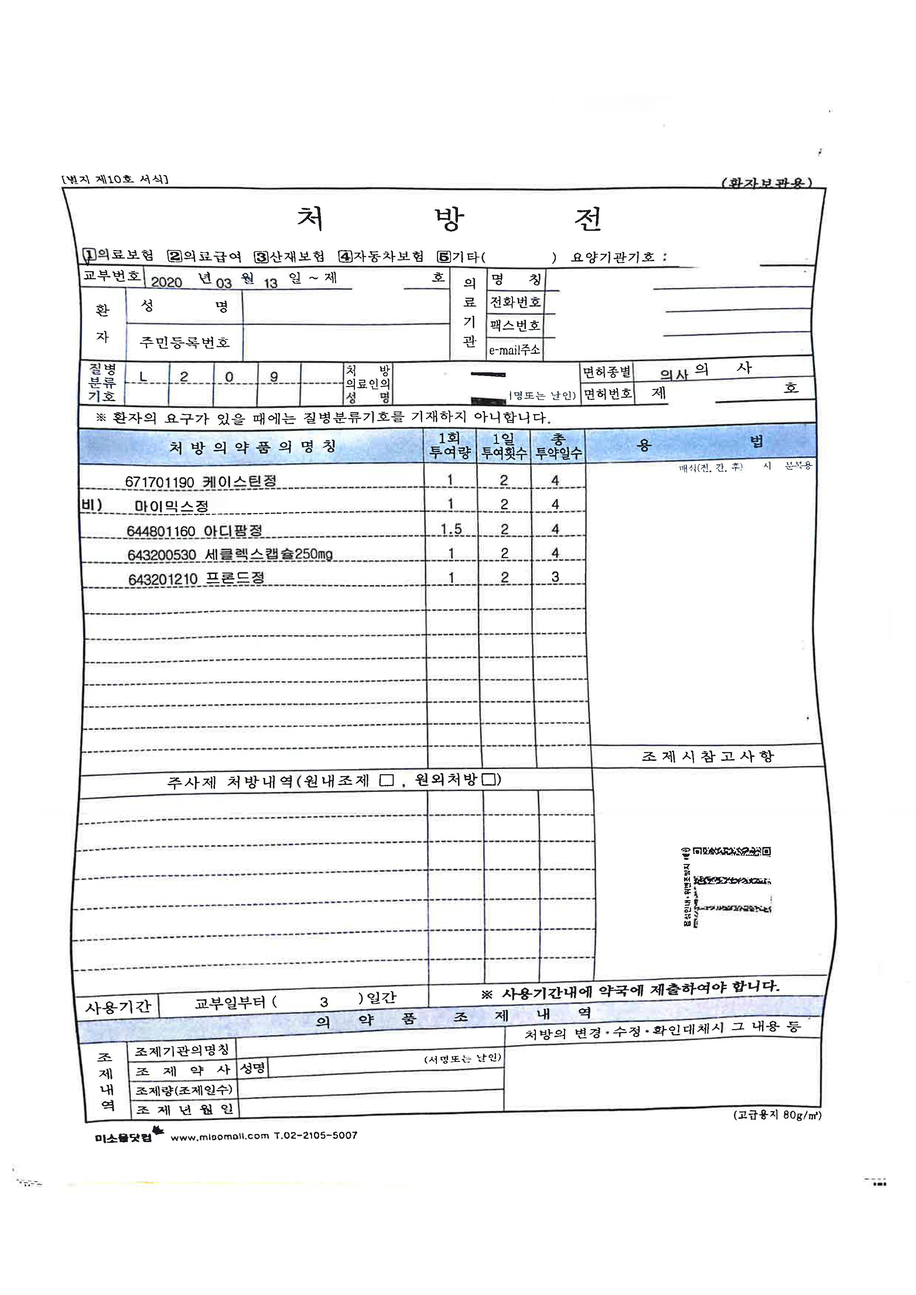row: (587, 433, 818, 728), (66, 189, 818, 268), (594, 749, 830, 971), (69, 267, 450, 364), (77, 1040, 504, 1121), (451, 267, 813, 360), (506, 1018, 817, 1095), (78, 979, 828, 1009), (74, 403, 816, 427), (78, 431, 583, 466), (75, 488, 585, 516), (77, 562, 585, 590), (77, 514, 585, 541), (82, 767, 589, 794), (76, 539, 585, 565), (69, 360, 343, 407), (75, 466, 584, 490), (579, 360, 816, 404), (344, 361, 580, 405), (308, 1010, 600, 1025)
